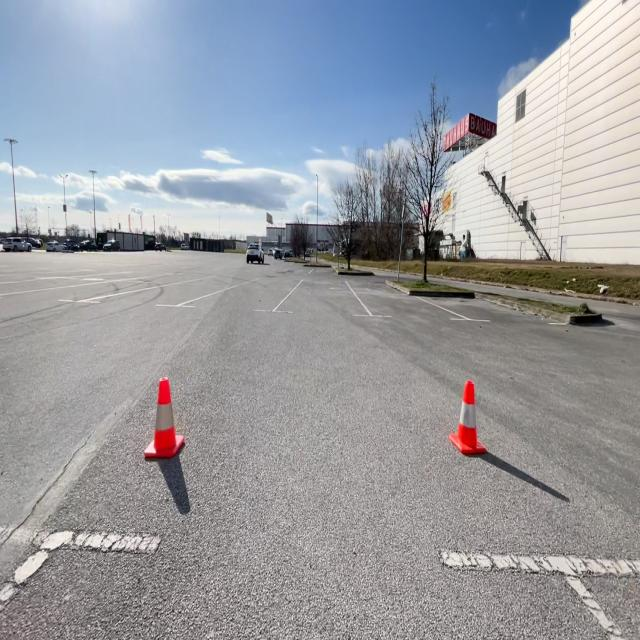orange_cone: (144, 377, 184, 456), (448, 380, 487, 455)
